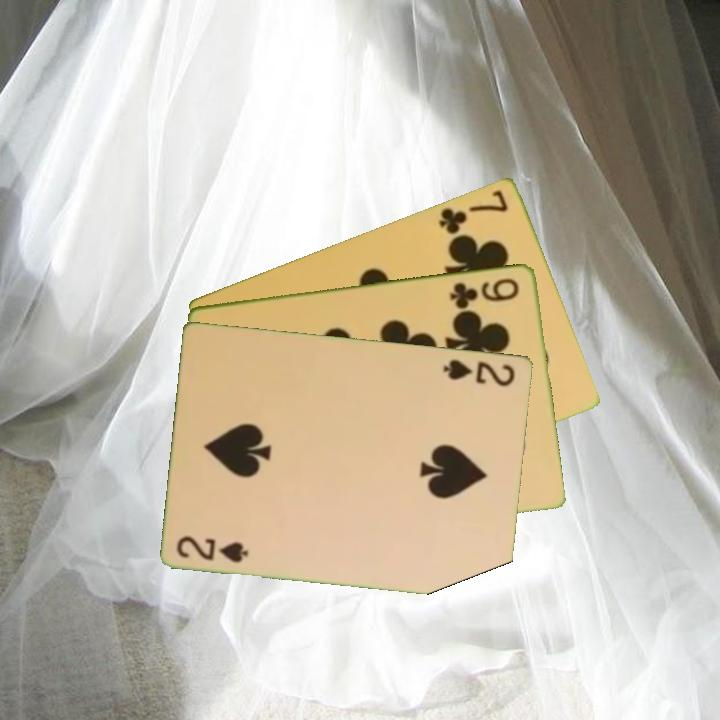2s: (440, 355, 519, 389), (174, 532, 251, 565)
7c: (435, 186, 511, 237)
9c: (446, 274, 523, 309)
